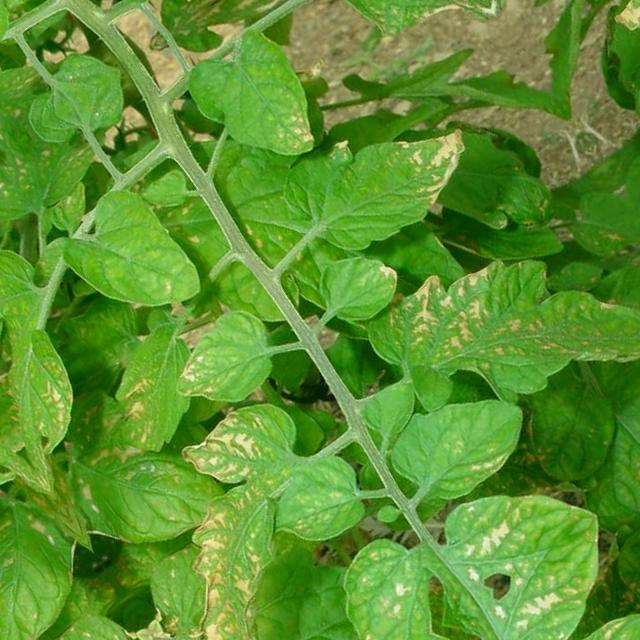Tomato leaf bacterial spot: (60, 347, 436, 640), (326, 168, 640, 517), (247, 36, 530, 308), (135, 0, 387, 240), (24, 175, 229, 375), (412, 418, 618, 606), (364, 485, 593, 640), (368, 362, 554, 540), (154, 277, 315, 429), (309, 520, 462, 640), (291, 224, 420, 349)
